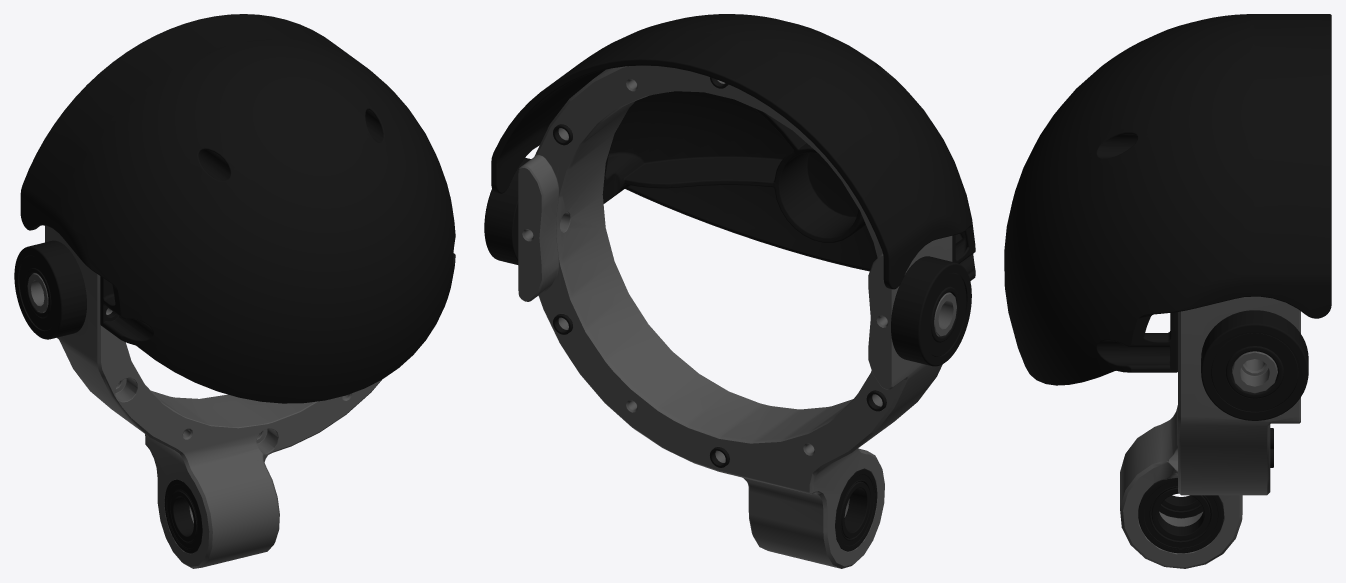
Rendered from link_right_hip_y.glb.
3 views of the same model, side by side, from view 1: azimuth 30°, elevation 25°; view 2: azimuth 150°, elevation 25°; view 3: azimuth 270°, elevation 25° (orthographic). The views are drawn at different scales.
Parts seen in each view (by area): view 1: link_right_hip_y; view 2: link_right_hip_y; view 3: link_right_hip_y.
Boxes of the visible parts, box(x1,y1,x2,y2) form: link_right_hip_y: box(14, 14, 455, 568); link_right_hip_y: box(484, 14, 975, 568); link_right_hip_y: box(1004, 14, 1331, 568).
Size of the model in its own units: 0.166 by 0.1937 by 0.1066.
Materials: 1 (1 with a texture image).
